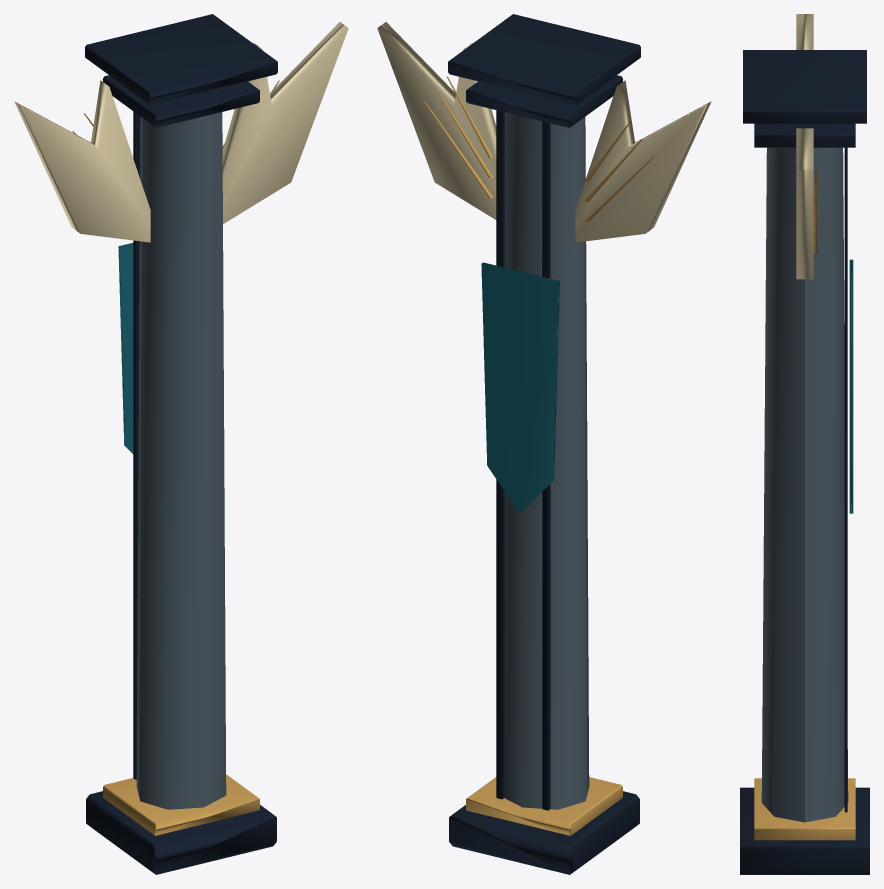
Rendered from prop_3_5.glb.
The picture shows the model from 3 angles, left to right: view 1: azimuth 30°, elevation 25°; view 2: azimuth 150°, elevation 25°; view 3: azimuth 270°, elevation 25°; orthographic projection. The views are drawn at different scales.
Visible parts, largest first — view 1: StoneShaft, WingedCapital (×2), Cornice (×3), Foundation, Flute, HangingBanner; view 2: StoneShaft, WingedCapital (×2), Cornice (×3), HangingBanner, Flute (×2), Foundation; view 3: StoneShaft, Cornice (×3), Foundation, WingedCapital (×2), Flute, HangingBanner.
Part boxes in pixels (bbox=[...]): StoneShaft: bbox=[136, 112, 226, 809]; WingedCapital (×2): bbox=[14, 22, 348, 242]; Cornice (×3): bbox=[85, 14, 277, 835]; Foundation: bbox=[86, 791, 276, 874]; Flute: bbox=[133, 111, 140, 779]; HangingBanner: bbox=[118, 243, 133, 453]; StoneShaft: bbox=[504, 112, 589, 809]; WingedCapital (×2): bbox=[377, 22, 711, 242]; Cornice (×3): bbox=[448, 14, 640, 835]; HangingBanner: bbox=[481, 262, 559, 513]; Flute (×2): bbox=[496, 110, 550, 810]; Foundation: bbox=[449, 791, 639, 874]; StoneShaft: bbox=[761, 147, 848, 822]; Cornice (×3): bbox=[743, 50, 866, 840]; Foundation: bbox=[740, 787, 869, 874]; WingedCapital (×2): bbox=[796, 14, 813, 279]; Flute: bbox=[844, 147, 847, 812]; HangingBanner: bbox=[849, 259, 853, 513].
Bounding box in the file's own units: 3.4 × 7.82 × 1.2.
